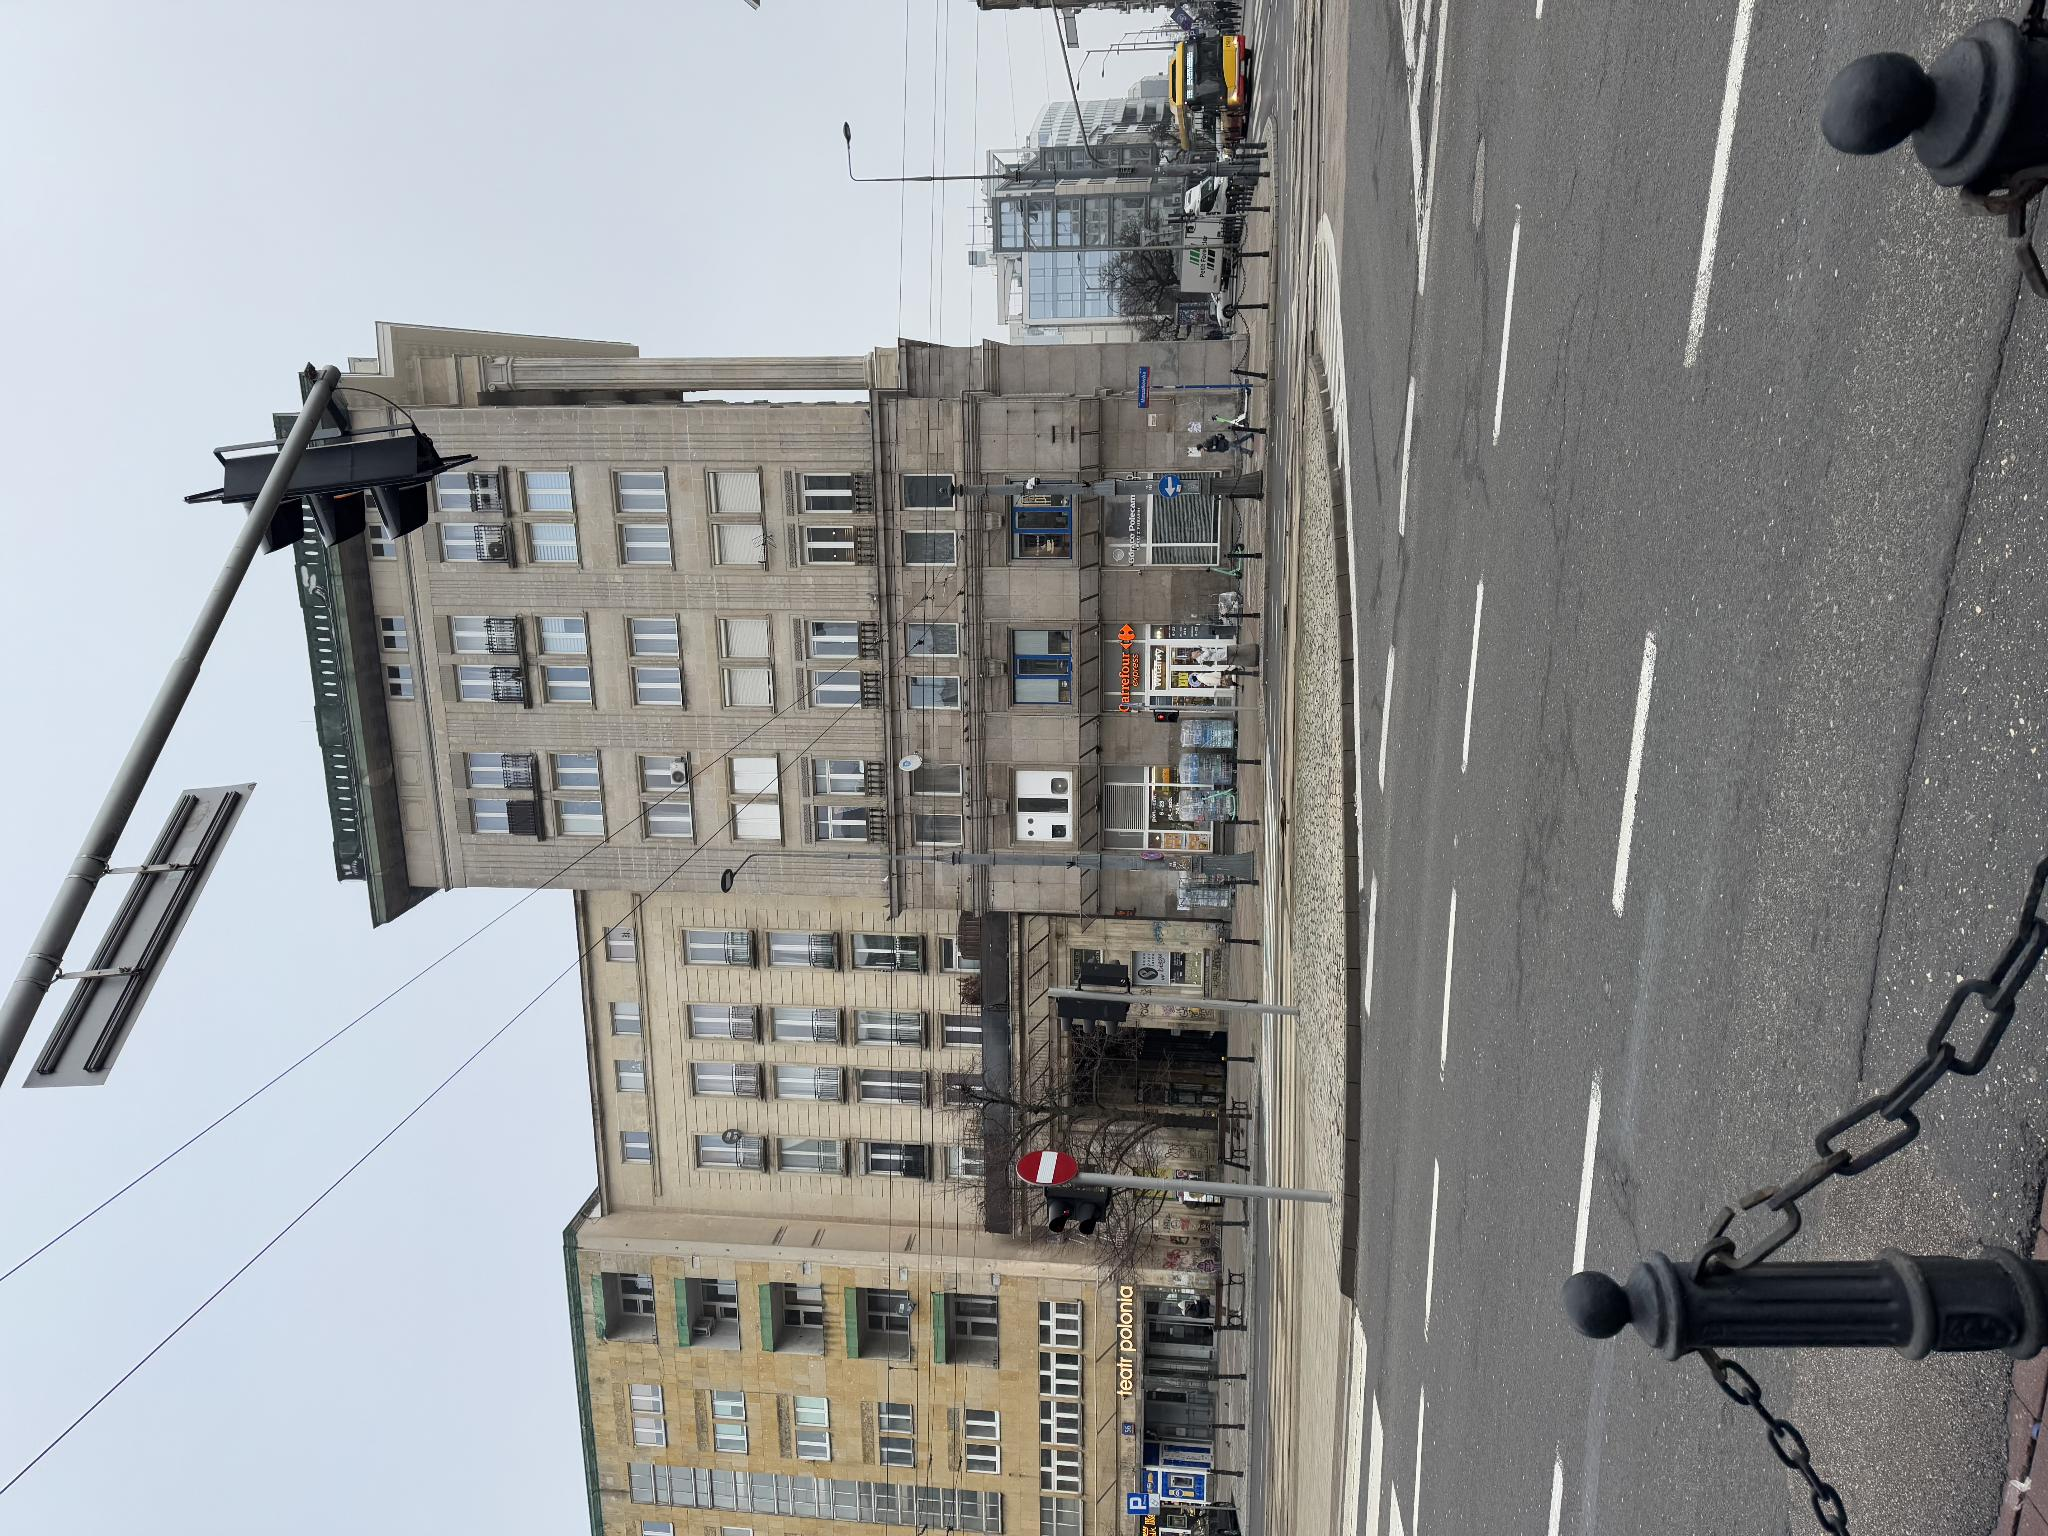information: (21, 1128, 44, 1150)
mandatory: (1039, 1158, 1063, 1183)
prohibitory: (350, 1015, 387, 1081), (677, 1141, 685, 1163)
